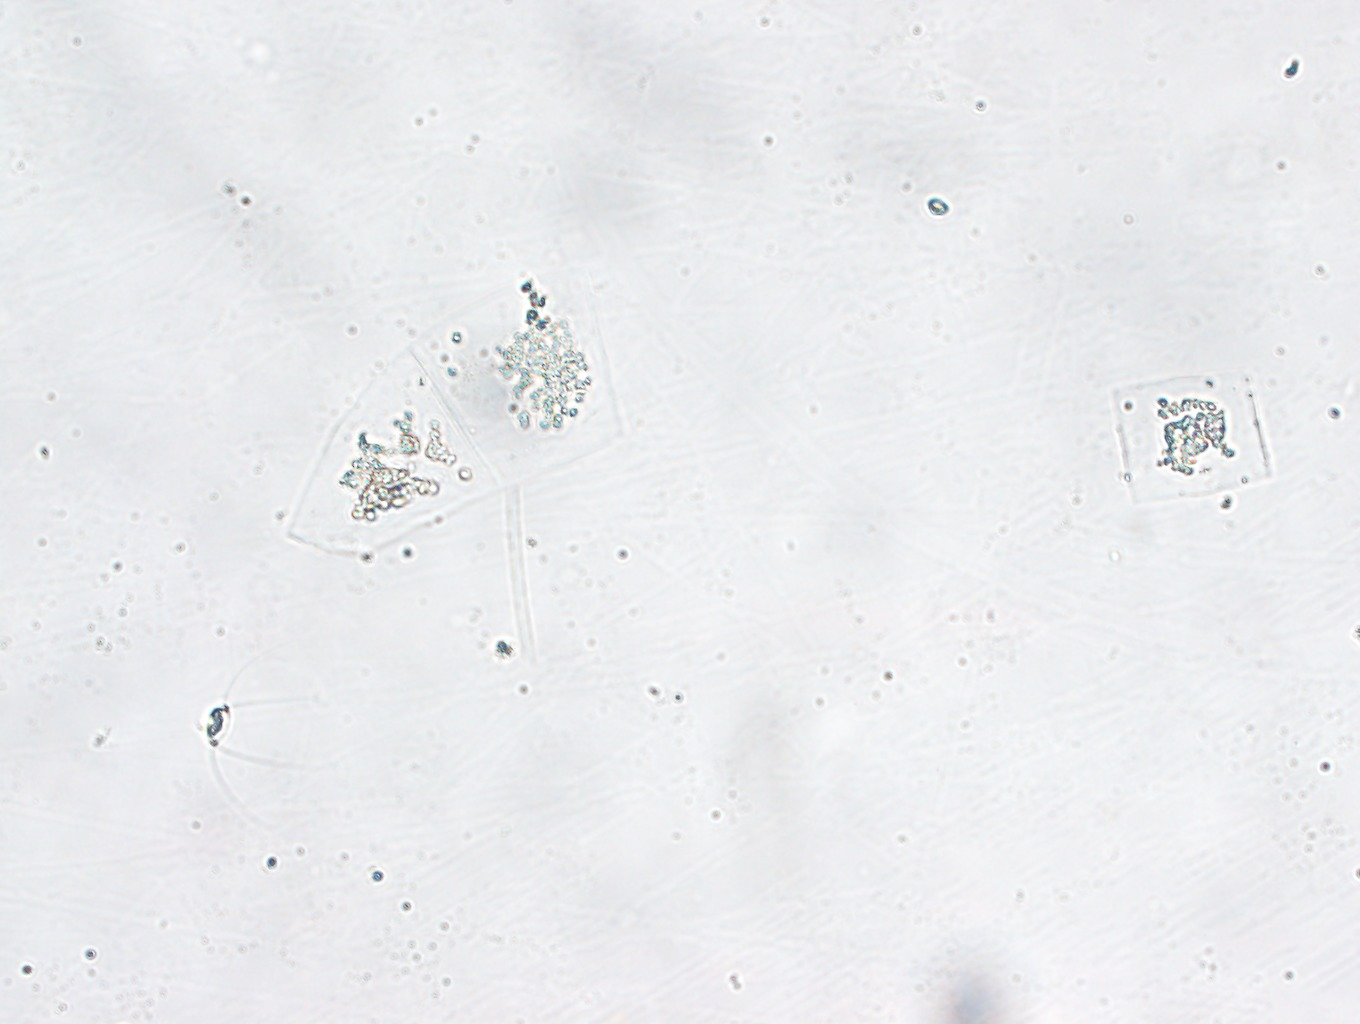chaetoceros: (206, 655, 343, 831)
helicotheca: (287, 273, 622, 560), (1116, 366, 1271, 507)
